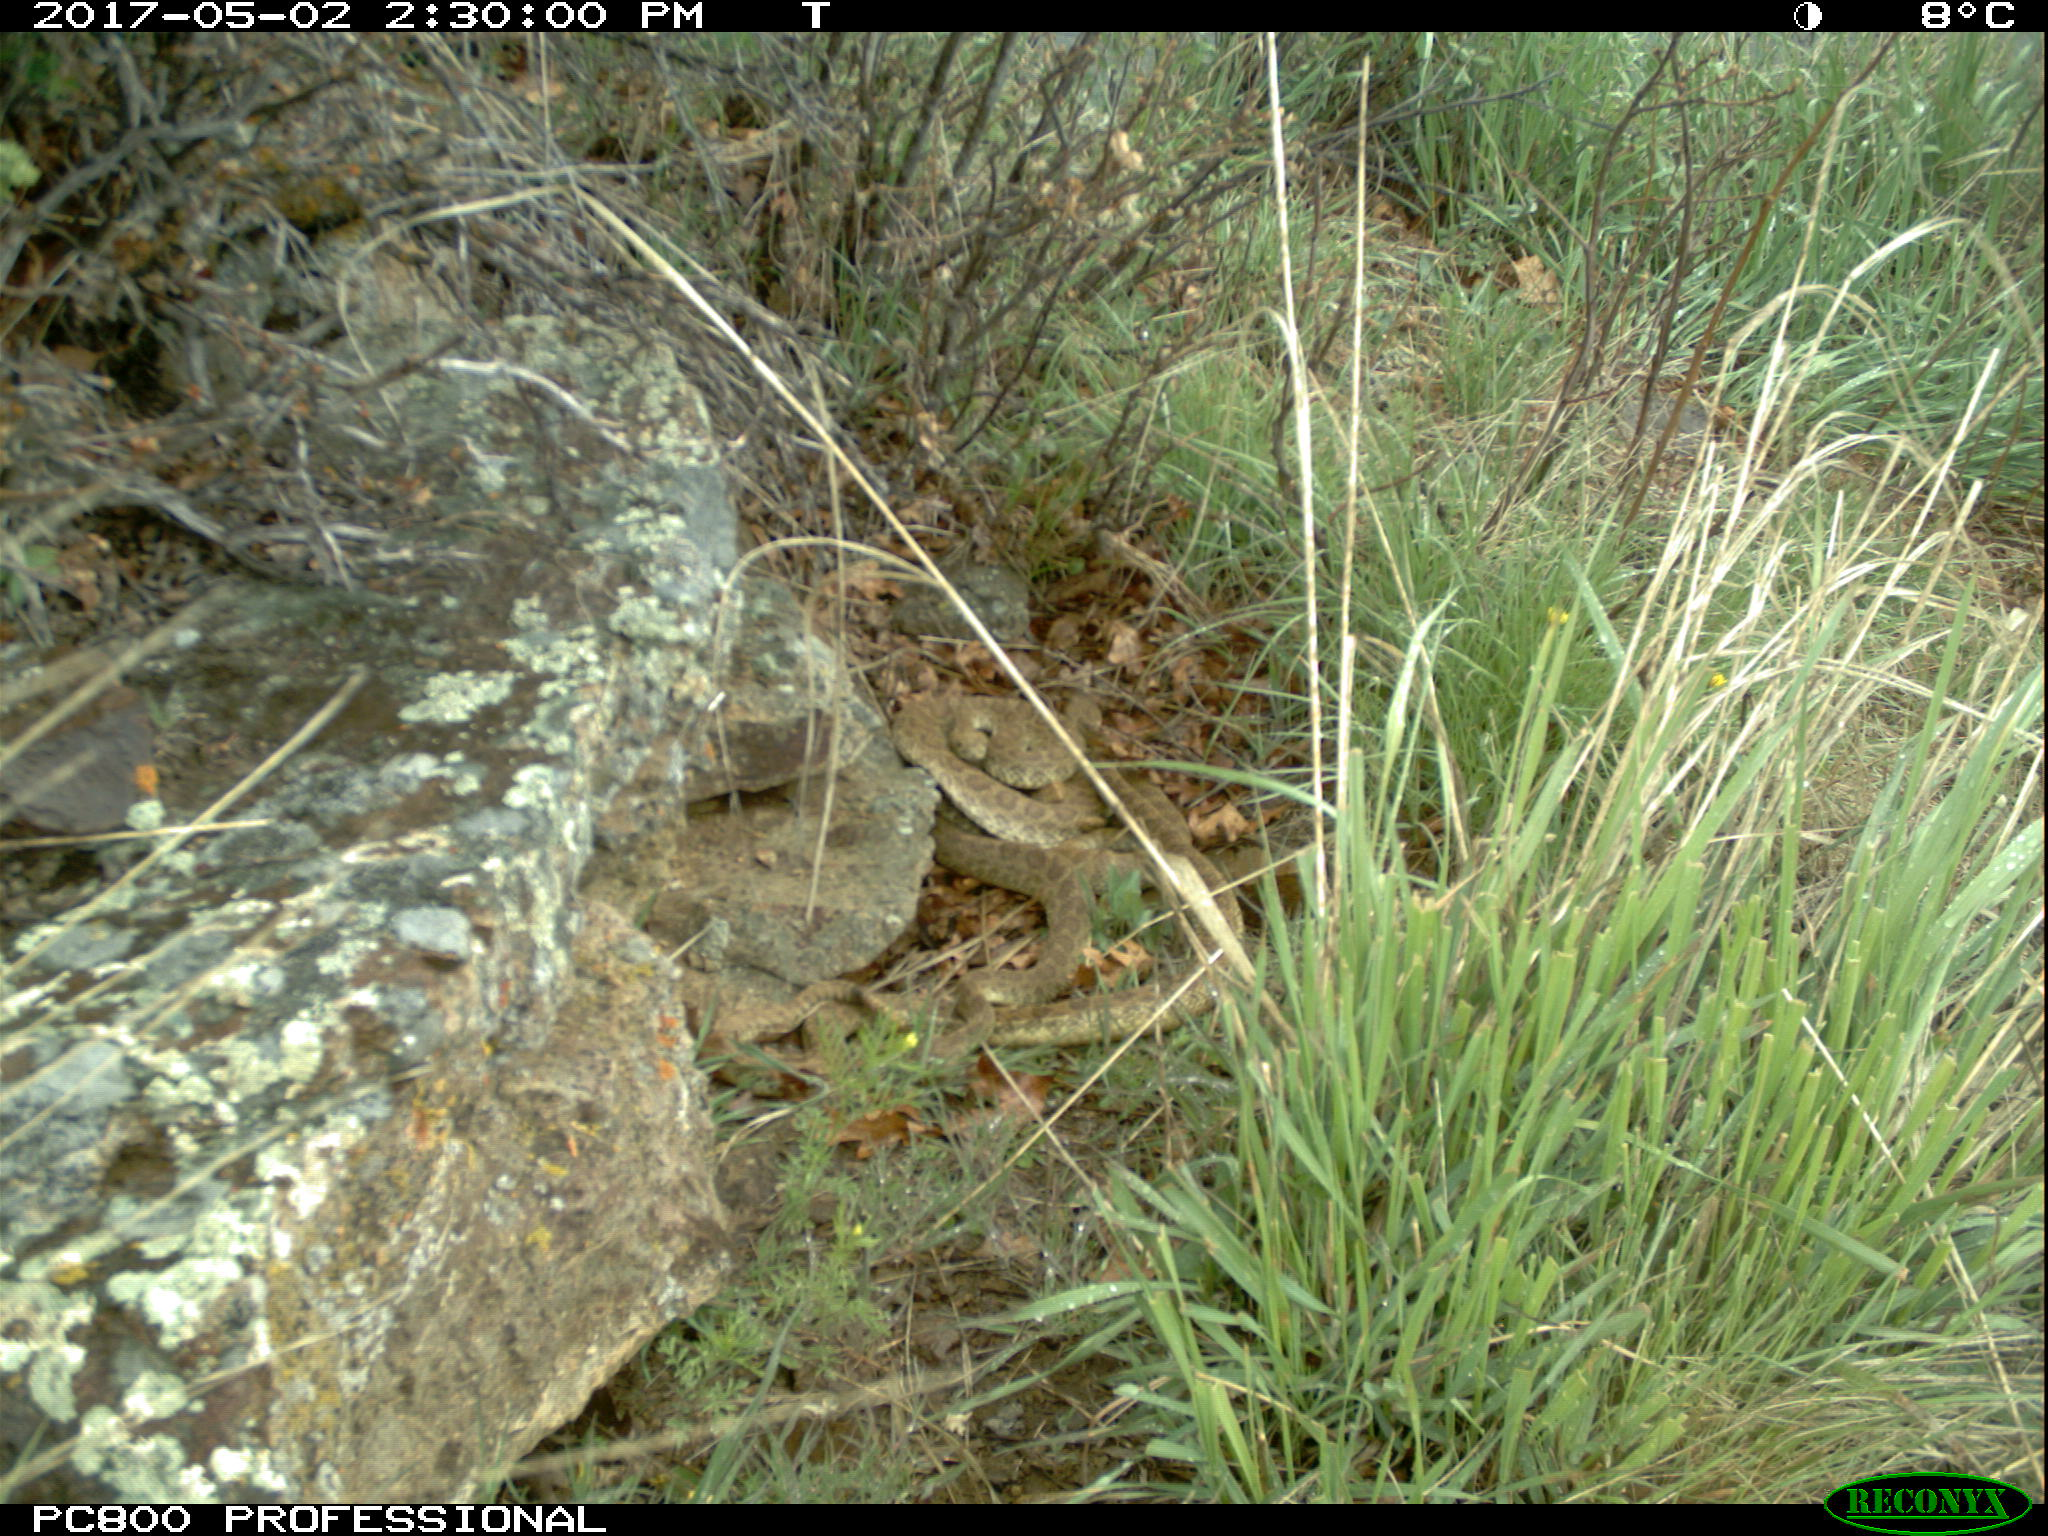snake: (689, 678, 1284, 1096)
